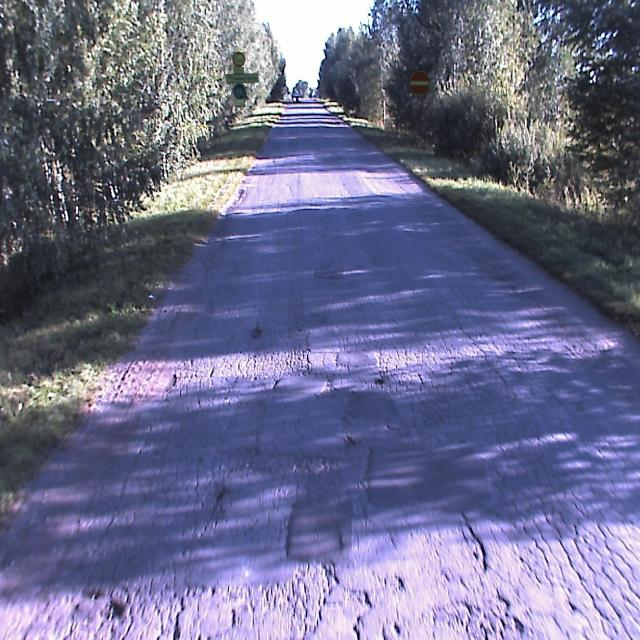road: (27, 98, 639, 639)
